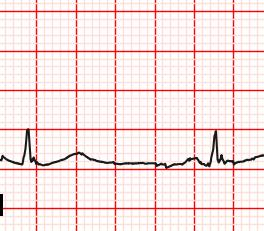LVH: (62, 145, 100, 166)
Poor R Progression: (20, 128, 37, 164)
